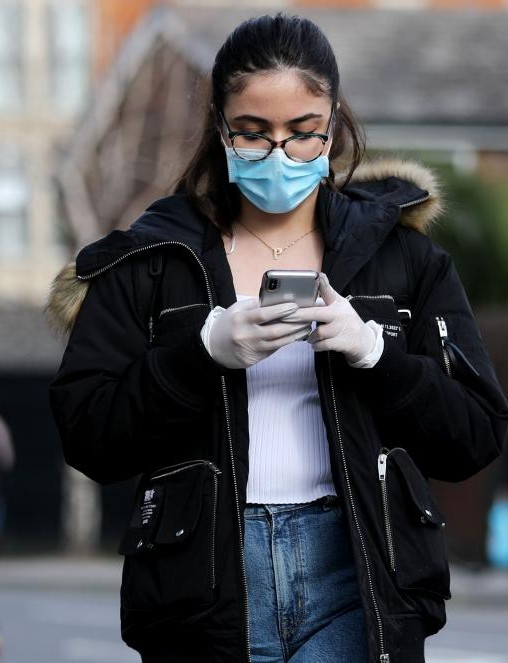with_mask: (211, 40, 344, 215)
